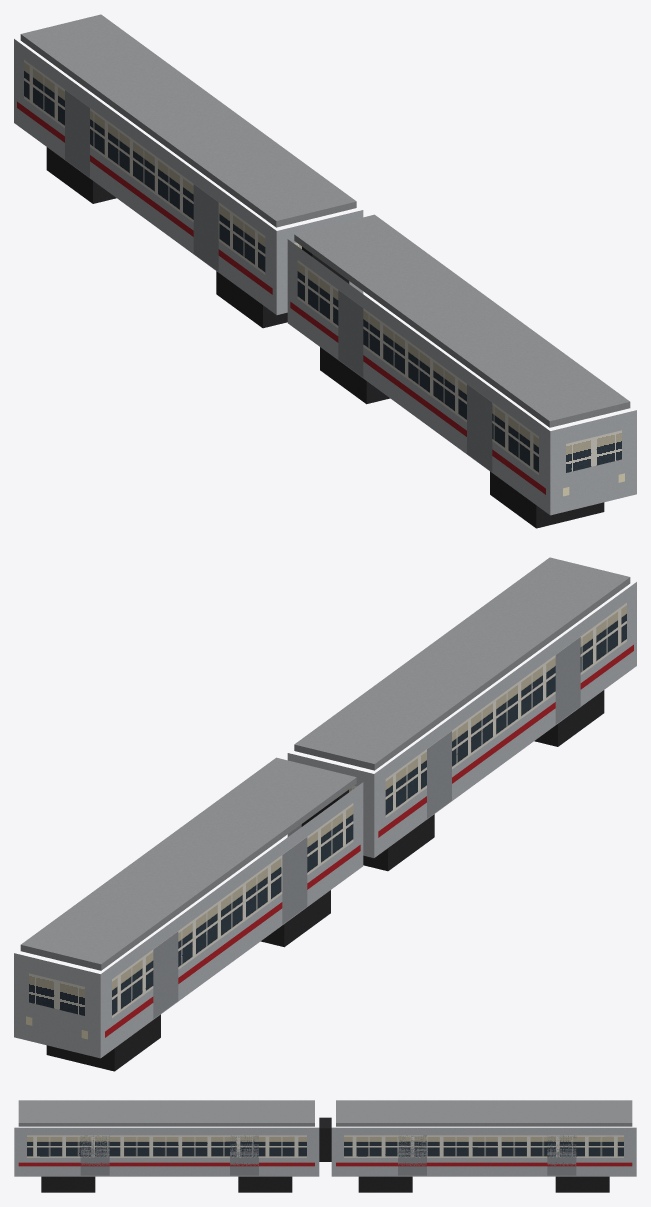
The model's file is l_train.glb.
3 views of the same model, one above another, from view 1: azimuth 30°, elevation 25°; view 2: azimuth 150°, elevation 25°; view 3: azimuth 270°, elevation 25° (orthographic). The views are drawn at different scales.
Visible parts, largest first — view 1: l_train; view 2: l_train; view 3: l_train.
Boxes of the visible parts, bbox=[...] form: l_train: bbox=[14, 14, 636, 528]; l_train: bbox=[14, 557, 636, 1071]; l_train: bbox=[14, 1100, 636, 1192].
Bounding box in the file's own units: 2.85 × 3.8 × 30.04.
7 materials, 7 textured.
